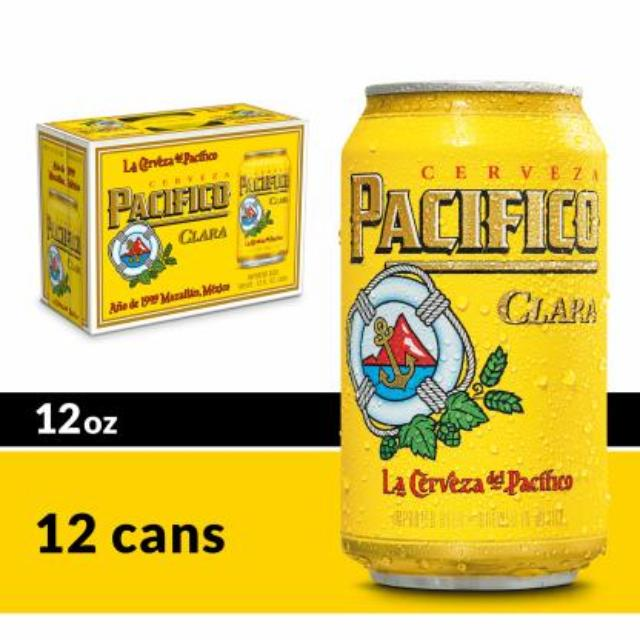metal: (340, 82, 605, 586)
